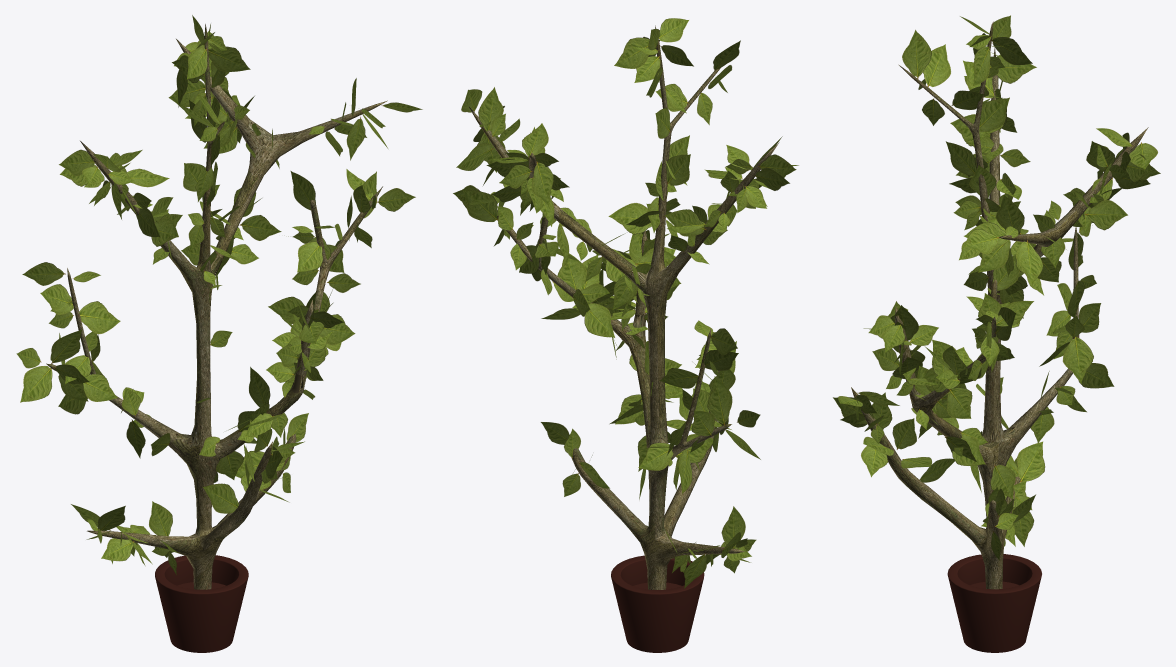
The model's file is potted_plant.gltf.
The picture shows the model from 3 angles, left to right: view 1: azimuth 30°, elevation 25°; view 2: azimuth 150°, elevation 25°; view 3: azimuth 270°, elevation 25°; orthographic projection.
Parts seen in each view (by area): view 1: Cube.022, Cylinder.004; view 2: Cube.022, Cylinder.004; view 3: Cube.022, Cylinder.004.
Boxes of the visible parts, x1,y1,x2,y2 form: Cube.022: (16,15,422,589); Cylinder.004: (155,555,248,652); Cube.022: (453,18,798,589); Cylinder.004: (611,555,704,652); Cube.022: (833,15,1160,589); Cylinder.004: (947,554,1041,652).
Size of the model in its own units: 0.5475 by 0.9122 by 0.4386.
Materials: 3 (2 with a texture image).
